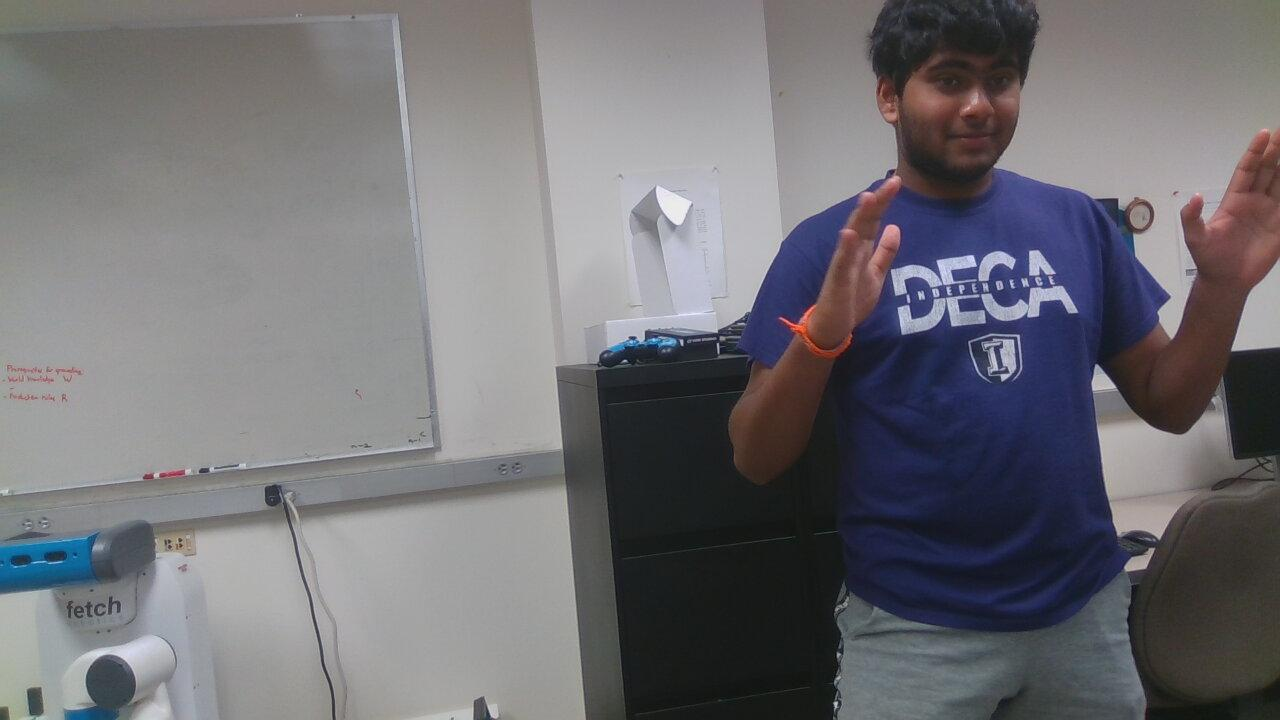hands: (1175, 122, 1280, 294), (819, 168, 914, 353)
